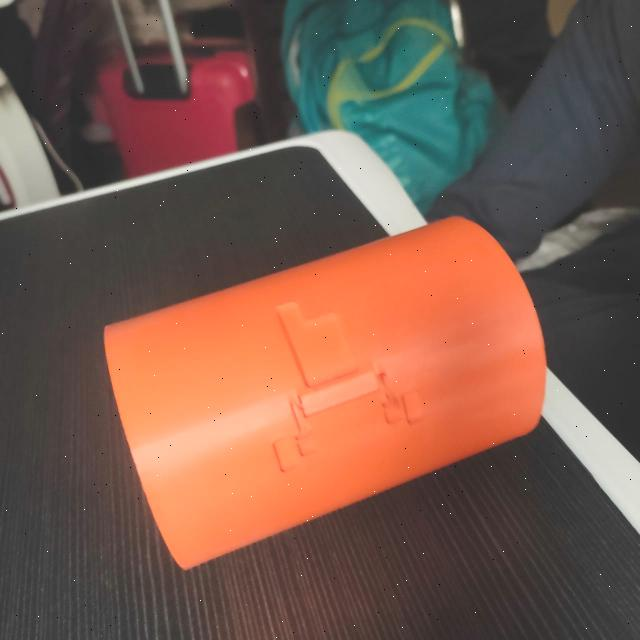Cylinder: (103, 214, 548, 571)
